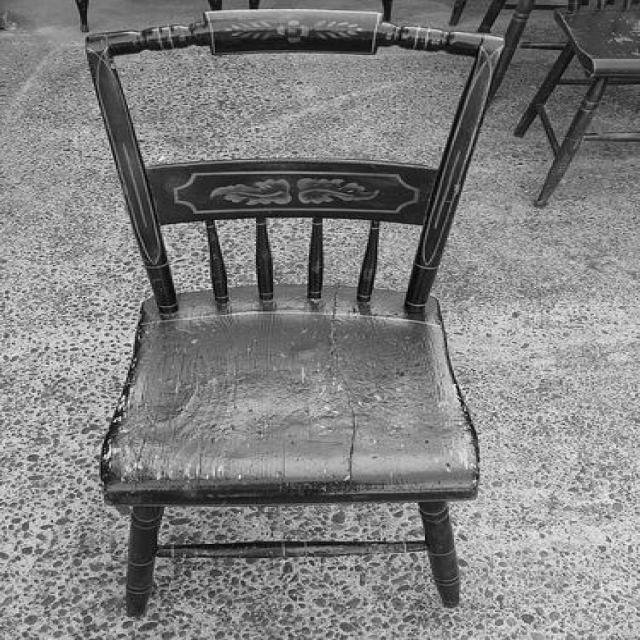chair: (84, 8, 520, 614)
